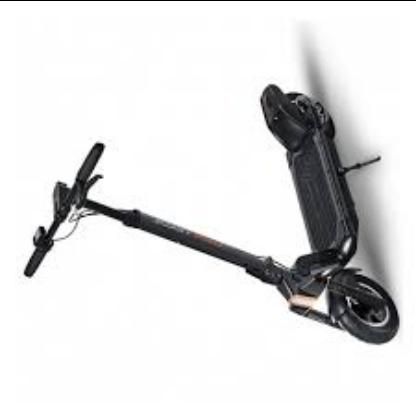bike: (26, 84, 400, 346), (256, 83, 403, 349)
